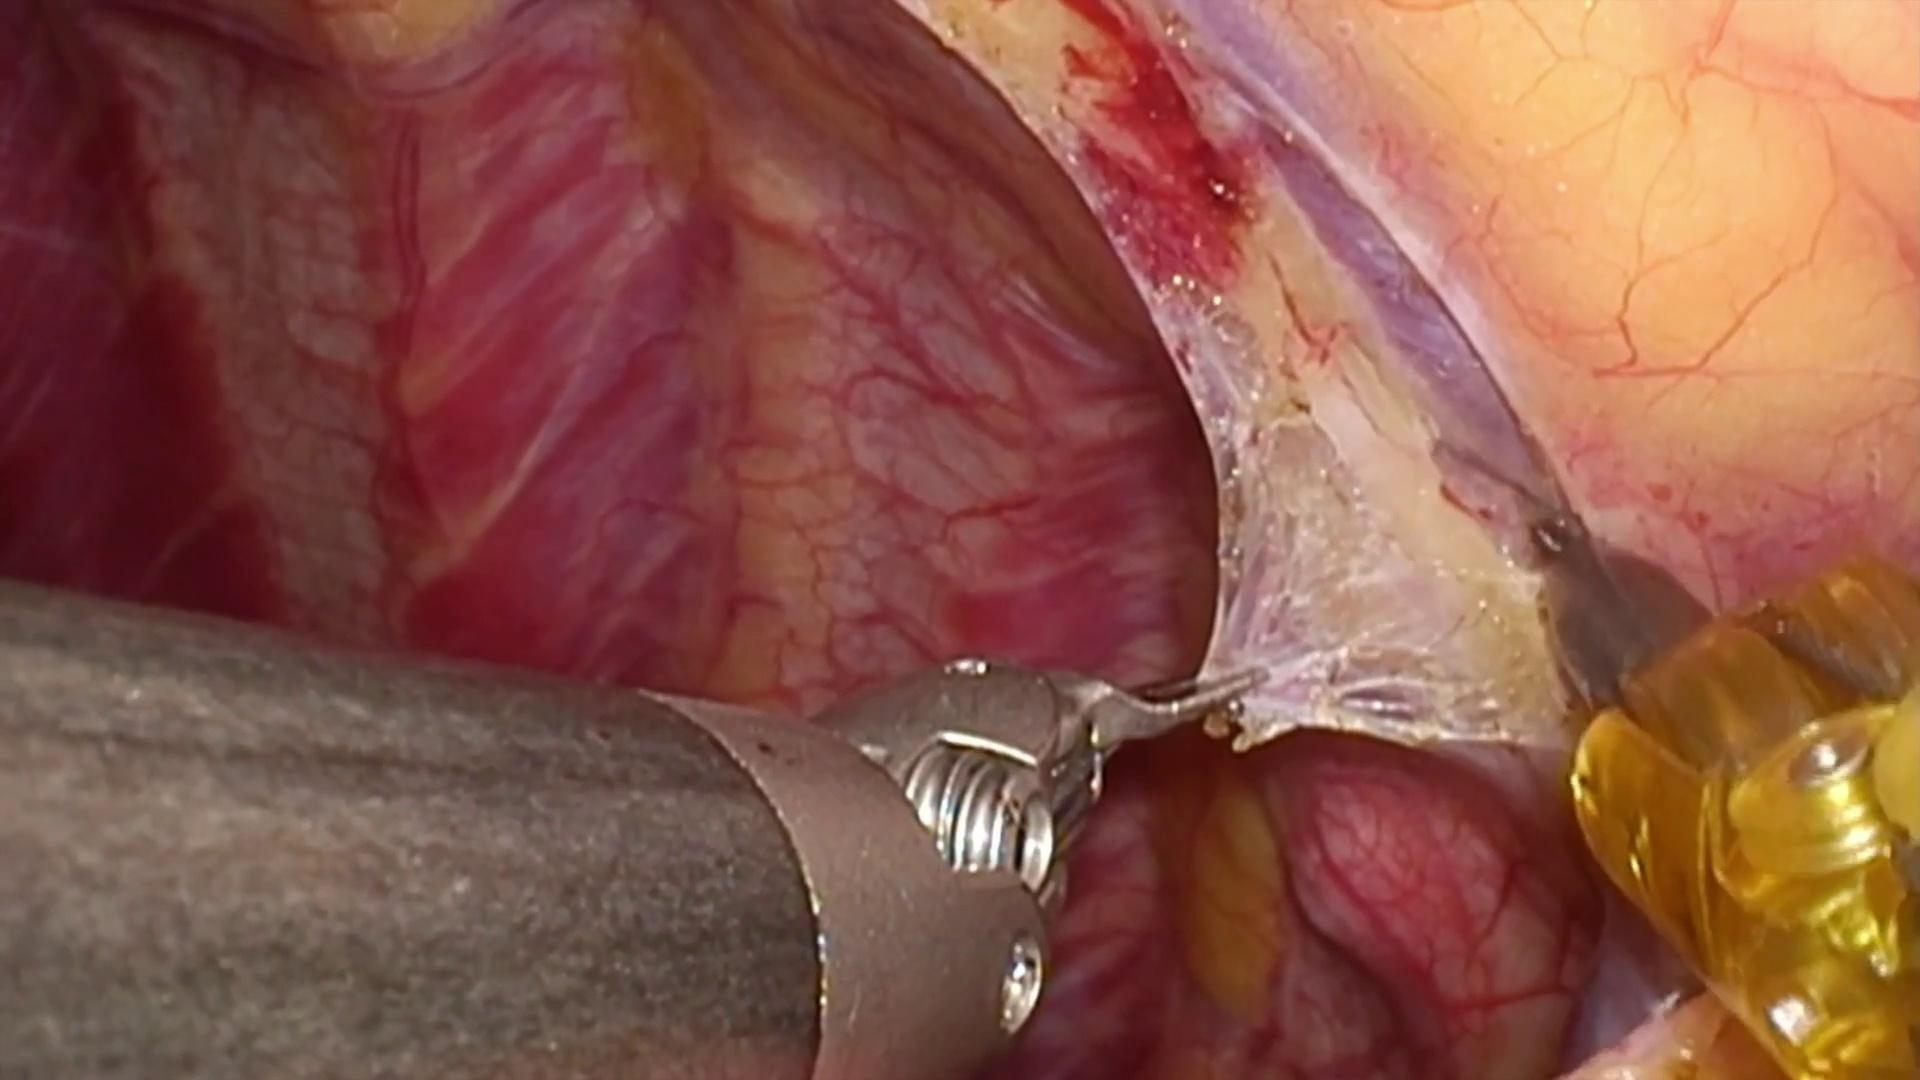Cautery_Spatula: (1501, 488, 1738, 731)
Debakey: (1048, 665, 1269, 777)
